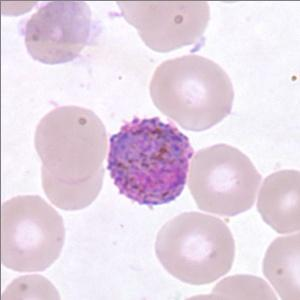Infected: (107, 116, 192, 206)
Uninfected: (151, 57, 235, 129), (34, 105, 109, 182), (154, 212, 234, 284), (188, 143, 259, 215), (0, 194, 62, 273), (119, 0, 208, 50), (25, 0, 89, 65), (42, 153, 102, 211), (258, 168, 300, 233)
